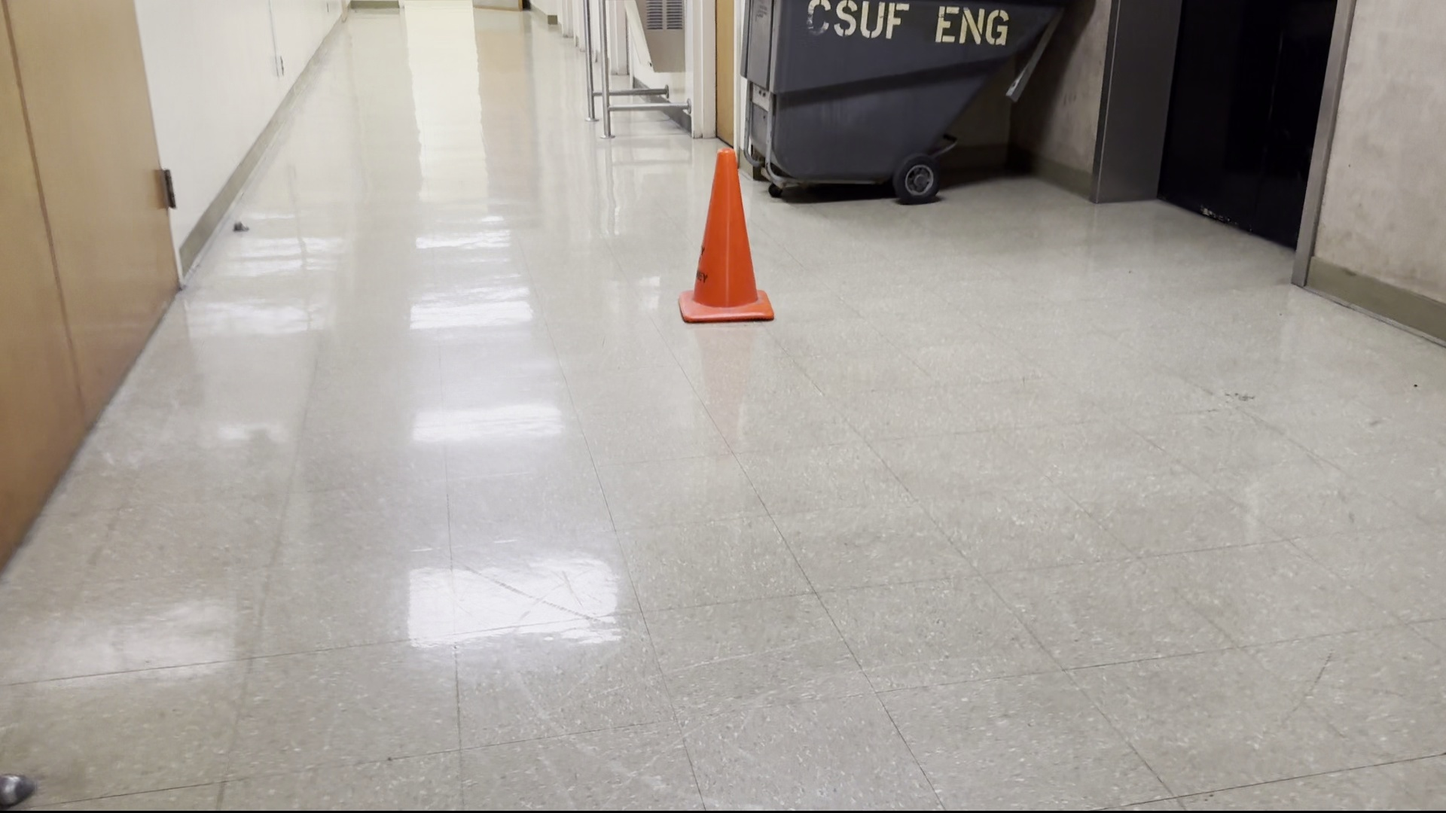traffic_cone: (677, 146, 775, 324)
